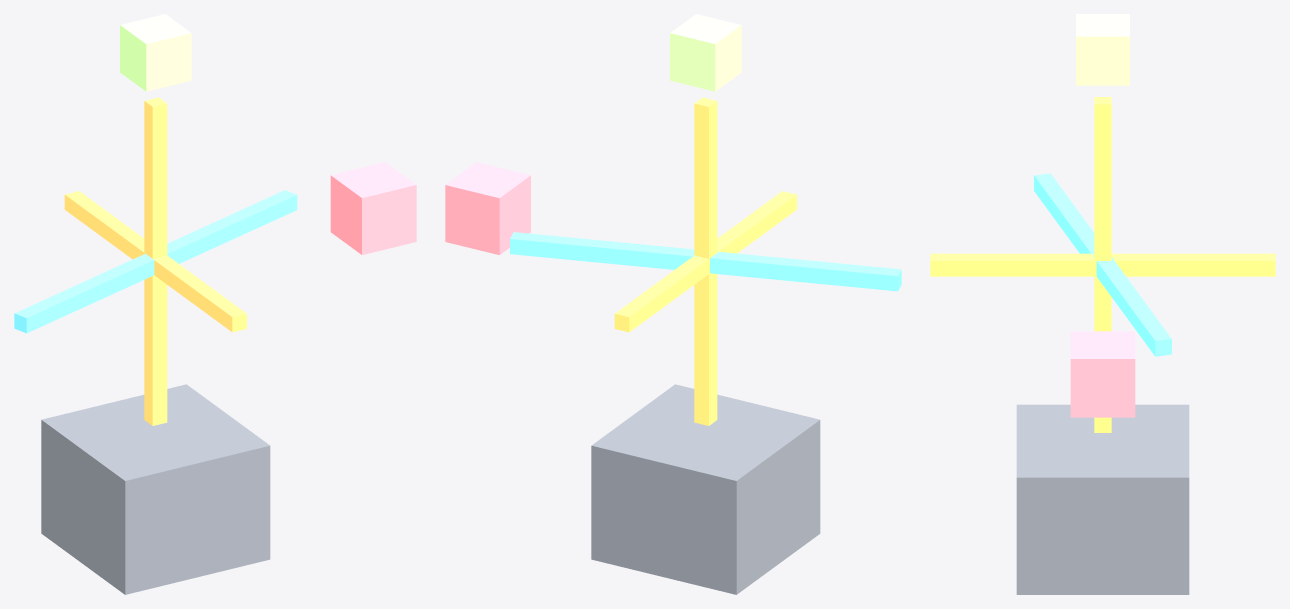
File: armillary.gltf
3 renders of one model, left to right at view 1: azimuth 30°, elevation 25°; view 2: azimuth 150°, elevation 25°; view 3: azimuth 270°, elevation 25°, orthographic. The views are drawn at different scales.
Parts seen in each view (by area): view 1: base, ring-tilted, ring-equator-1, moon, ring-equator-0, buoy; view 2: base, ring-tilted, ring-equator-1, moon, ring-equator-0, buoy; view 3: base, ring-equator-0, moon, ring-tilted, buoy, ring-equator-1.
Boxes of the visible parts, x1=… form: base: x1=41, y1=384, x2=270, y2=594; ring-tilted: x1=14, y1=190, x2=297, y2=333; ring-equator-1: x1=144, y1=109, x2=167, y2=418; moon: x1=330, y1=162, x2=416, y2=254; ring-equator-0: x1=64, y1=191, x2=246, y2=332; buoy: x1=120, y1=14, x2=191, y2=91; base: x1=591, y1=384, x2=820, y2=594; ring-tilted: x1=510, y1=232, x2=901, y2=291; ring-equator-1: x1=694, y1=109, x2=717, y2=418; moon: x1=445, y1=162, x2=530, y2=254; ring-equator-0: x1=614, y1=191, x2=796, y2=332; buoy: x1=670, y1=14, x2=741, y2=91; base: x1=1016, y1=404, x2=1189, y2=594; ring-equator-0: x1=930, y1=253, x2=1275, y2=276; moon: x1=1070, y1=331, x2=1135, y2=417; ring-tilted: x1=1034, y1=173, x2=1171, y2=356; buoy: x1=1076, y1=14, x2=1129, y2=85; ring-equator-1: x1=1094, y1=112, x2=1111, y2=425.
Size of the model in its own units: 2.27 by 2.73 by 1.6.
